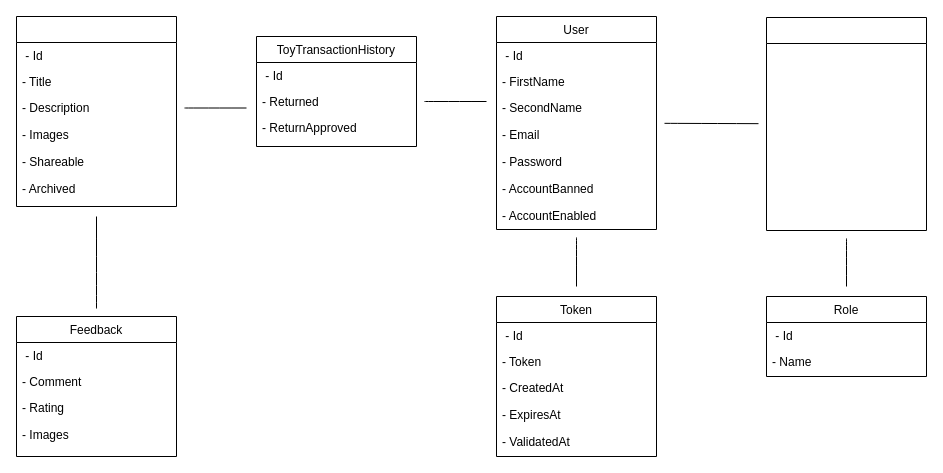
Some shapes in this 943 by 473 pixel diagram are drawn without their labels. The shapes that lost their labels are listed below. From the top down, each one's box as (x1, y1, x2, y2) in pixels, then its label:
(16, 16, 176, 206): Toy
(766, 16, 926, 230): UserRole
